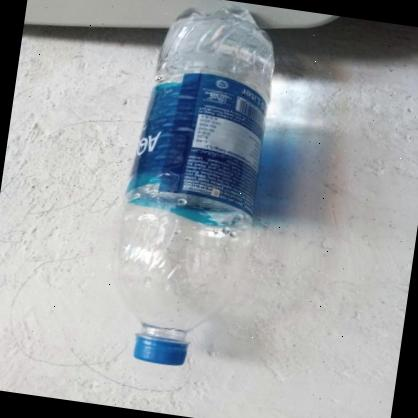bottle: (98, 0, 279, 375)
cap: (130, 330, 190, 368)
label: (125, 70, 268, 216)
